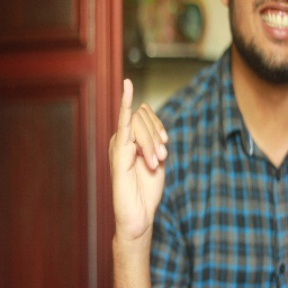I: (103, 75, 173, 231)
